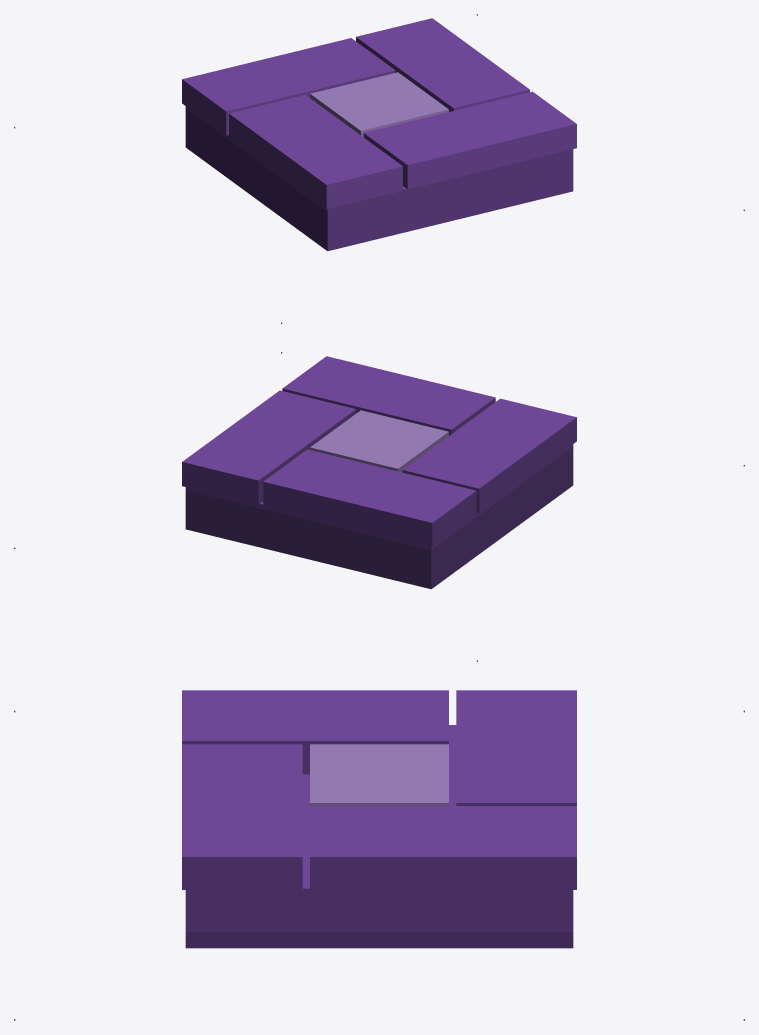
File: floor_crystal.glb
3 views of the same model, one above another, from view 1: azimuth 30°, elevation 25°; view 2: azimuth 150°, elevation 25°; view 3: azimuth 270°, elevation 25° (orthographic). The views are drawn at different scales.
Size of the model in its own units: 1 by 0.14 by 1.
Materials: 1 (1 with a texture image).
